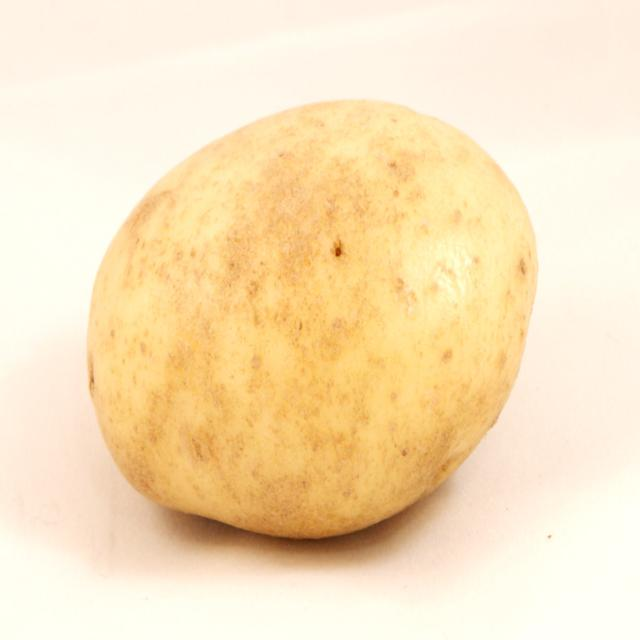potato: (79, 101, 538, 543)
